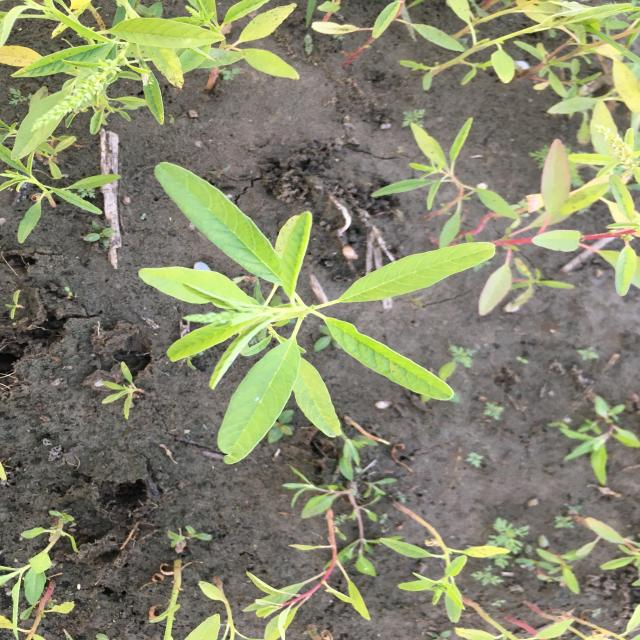Ragweed: (484, 514, 532, 556)
Waterhemp: (134, 161, 498, 468), (0, 3, 233, 246), (309, 2, 637, 119), (239, 457, 408, 637), (365, 114, 526, 250), (376, 500, 514, 626)
